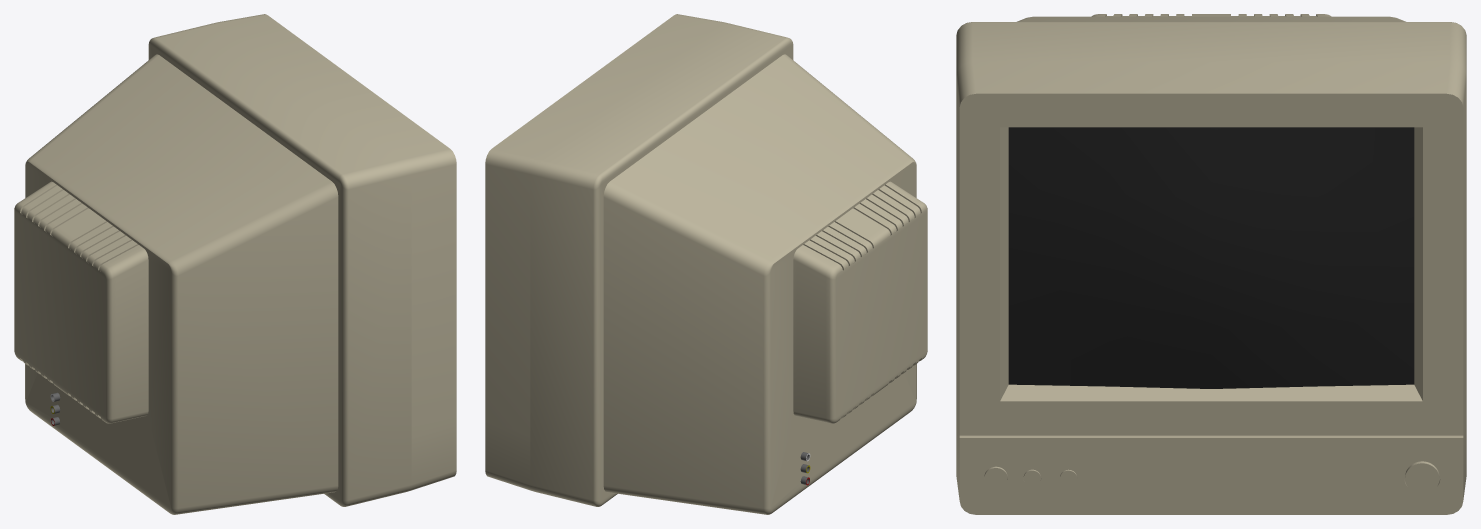
File: retro_computer_monitor.glb
3 renders of one model, left to right at view 1: azimuth 30°, elevation 25°; view 2: azimuth 150°, elevation 25°; view 3: azimuth 270°, elevation 25°, orthographic. The views are drawn at different scales.
Parts seen in each view (by area): view 1: Monitor_0; view 2: Monitor_0; view 3: Monitor_0, Button4_6.
Part boxes in pixels (x1,y1,x2,y2): Monitor_0: (14, 14, 456, 514); Monitor_0: (485, 14, 927, 514); Monitor_0: (956, 14, 1466, 514); Button4_6: (1405, 461, 1439, 494).
Size of the model in its own units: 3.92 by 4.13 by 4.48.
